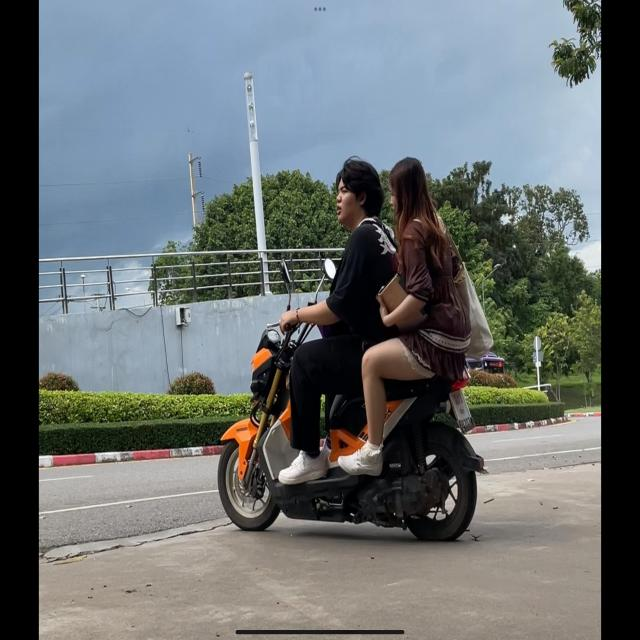seatbelt: (334, 157, 384, 230), (388, 154, 428, 221)
